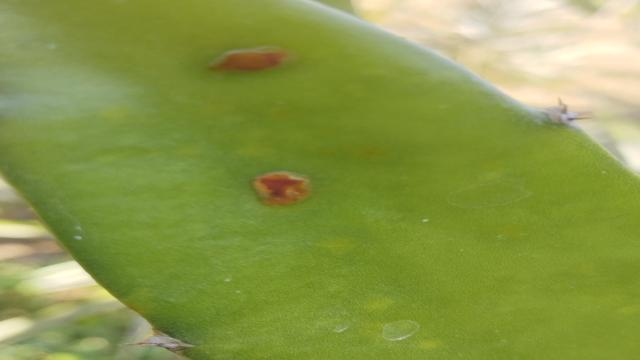stemcanker: (246, 166, 324, 211), (202, 43, 296, 77)
